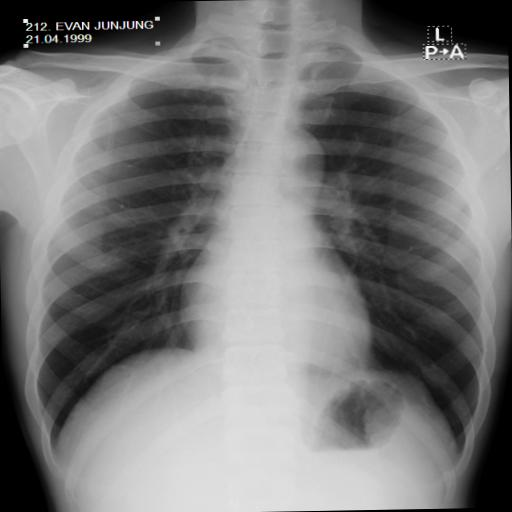normal: (18, 27, 506, 487)
